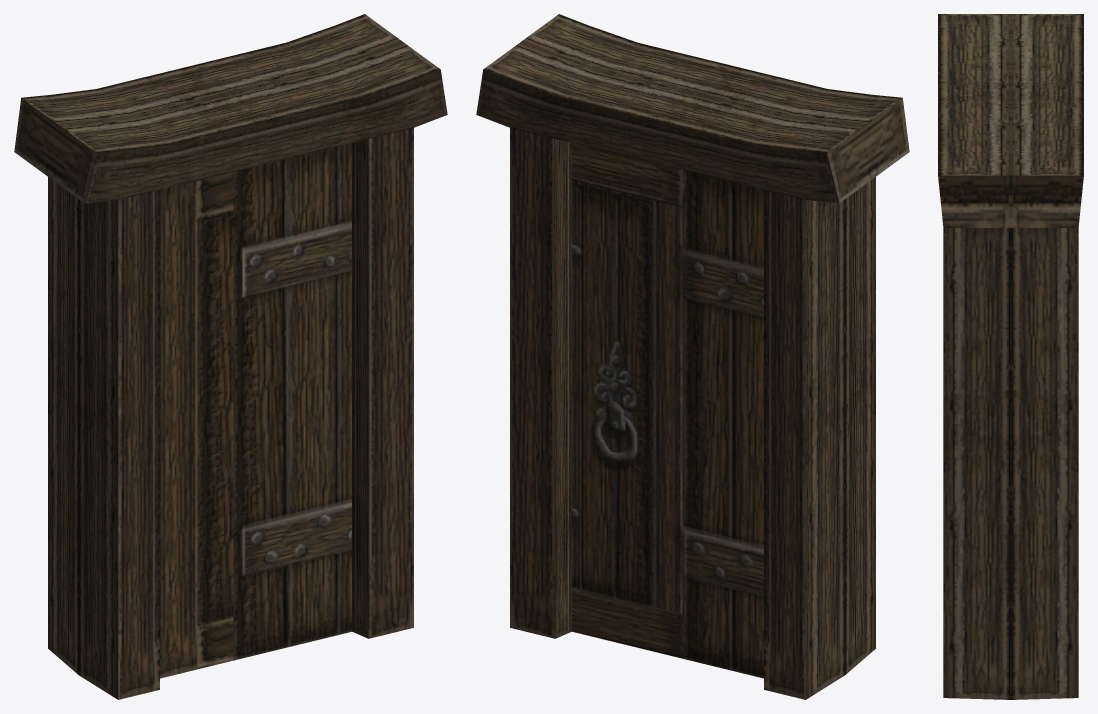
File: door.fbx
3 renders of one model, left to right at view 1: azimuth 30°, elevation 25°; view 2: azimuth 150°, elevation 25°; view 3: azimuth 270°, elevation 25°, orthographic. The views are drawn at different scales.
Parts seen in each view (by area): view 1: Doors_01; view 2: Doors_01; view 3: Doors_01.
Boxes of the visible parts, <box> form: Doors_01: <box>14,14,447,699</box>; Doors_01: <box>476,14,909,699</box>; Doors_01: <box>938,14,1083,699</box>.
Size of the model in its own units: 198 by 289 by 71.65.
